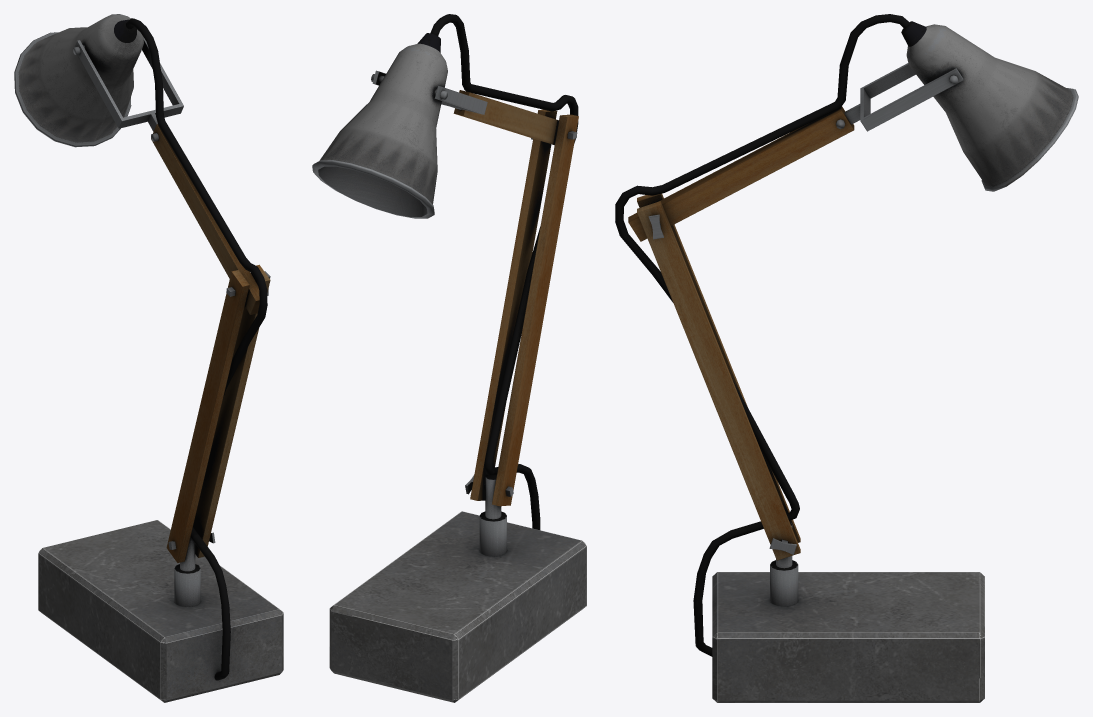
3 renders of one model, left to right at view 1: azimuth 30°, elevation 25°; view 2: azimuth 150°, elevation 25°; view 3: azimuth 270°, elevation 25°, orthographic. The views are drawn at different scales.
Visible parts, largest first — view 1: Lamp; view 2: Lamp; view 3: Lamp.
Part boxes in pixels (x1,y1,x2,y2): Lamp: [14, 14, 283, 702]; Lamp: [312, 14, 586, 702]; Lamp: [615, 14, 1078, 702].
Size of the model in its own units: 0.1706 by 0.8068 by 0.5165.
1 material, 1 textured.
